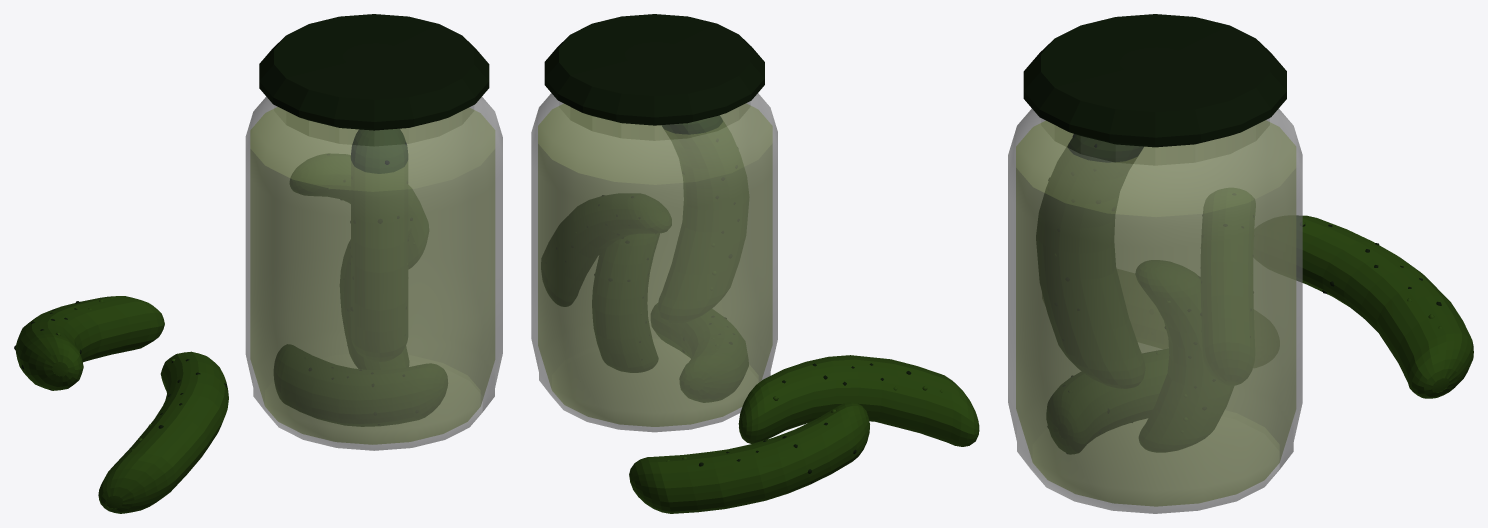
Rendered from Pickle_235.obj.
3 renders of one model, left to right at view 1: azimuth 30°, elevation 25°; view 2: azimuth 150°, elevation 25°; view 3: azimuth 270°, elevation 25°, orthographic. The views are drawn at different scales.
Parts seen in each view (by area): view 1: Cylinder001, Cylinder002, Capsule001, Capsule005, Capsule003, Capsule006, Capsule004, Capsule002; view 2: Cylinder001, Cylinder002, Capsule005, Capsule006, Capsule001, Capsule002, Capsule004, Capsule003; view 3: Cylinder001, Cylinder002, Capsule001, Capsule006, Capsule002, Capsule004, Capsule003.
Part boxes in pixels (x1,y1,x2,y2): Cylinder001: [245, 14, 502, 450]; Cylinder002: [250, 107, 494, 444]; Capsule001: [350, 128, 408, 361]; Capsule005: [98, 351, 228, 513]; Capsule003: [274, 344, 447, 426]; Capsule006: [14, 296, 164, 390]; Capsule004: [290, 153, 428, 268]; Capsule002: [340, 224, 411, 369]; Cylinder001: [531, 14, 777, 432]; Cylinder002: [538, 103, 772, 426]; Capsule005: [738, 355, 979, 446]; Capsule006: [629, 402, 869, 513]; Capsule001: [658, 115, 749, 323]; Capsule002: [592, 233, 659, 372]; Capsule004: [541, 193, 671, 306]; Capsule003: [651, 303, 748, 402]; Cylinder001: [1008, 14, 1302, 513]; Cylinder002: [1016, 120, 1295, 506]; Capsule001: [1036, 134, 1145, 388]; Capsule006: [1296, 215, 1473, 398]; Capsule002: [1135, 260, 1233, 452]; Capsule004: [1200, 188, 1255, 385]; Capsule003: [1046, 349, 1168, 454].
Size of the model in its own units: 54.71 by 45.22 by 46.07.
